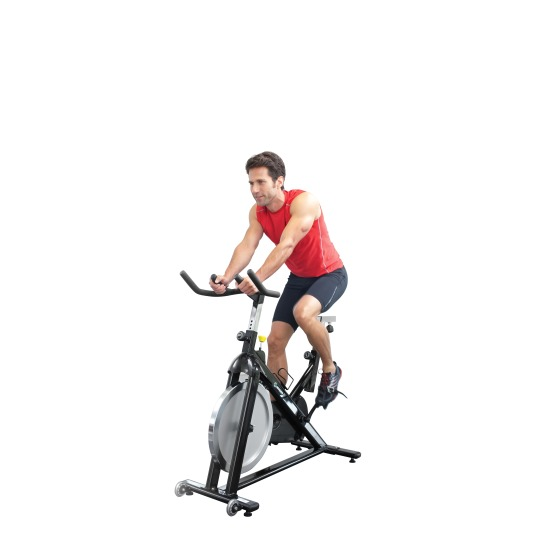gym_bike: (163, 264, 366, 518)
